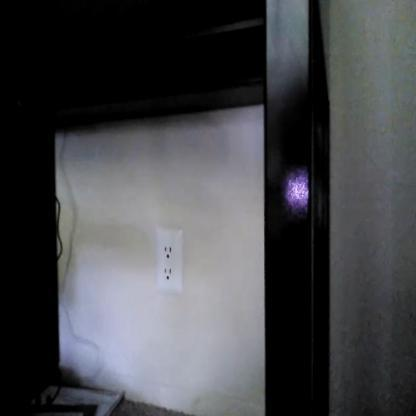OUTLET: (156, 226, 183, 294)
